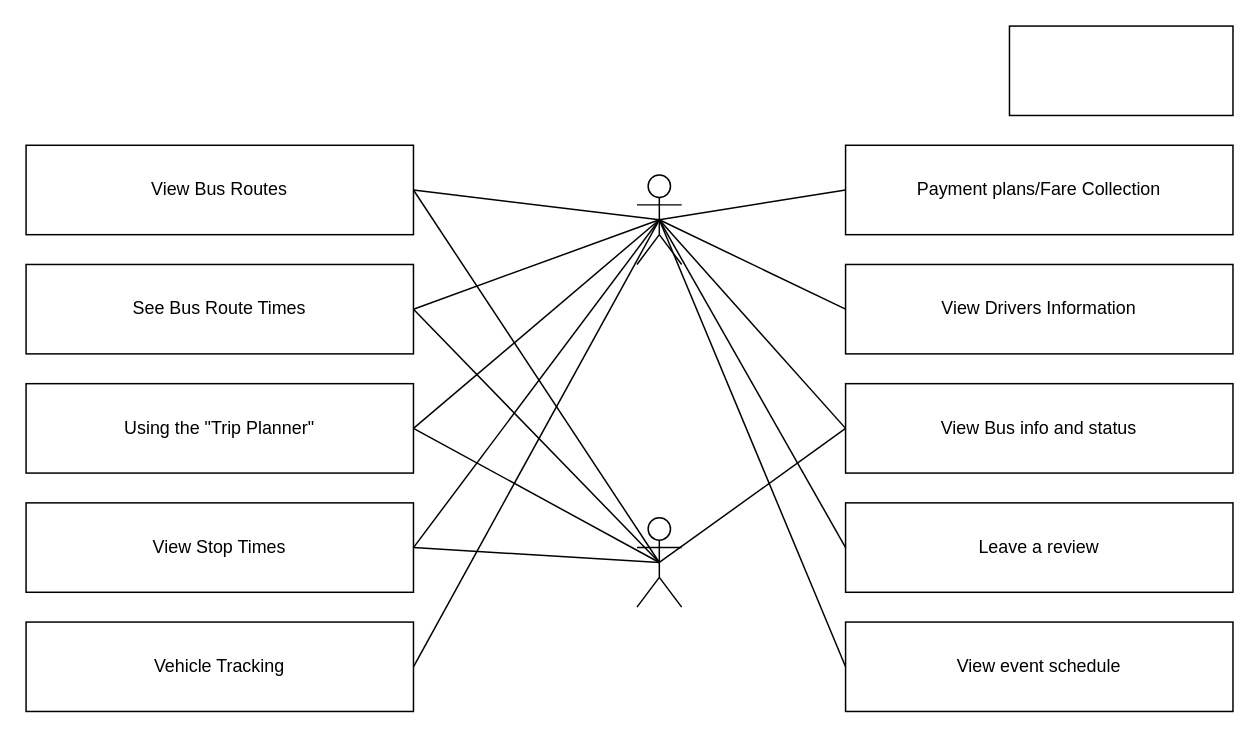
Image size: 1259x738. Some labels were removed from this diagram. The centre of each missing label's shape, as x and y in pixels:
"Bus Transit System UML" goes at (x=1120, y=70).
"Drivers" goes at (x=658, y=561).
"Passenger" goes at (x=658, y=219).
